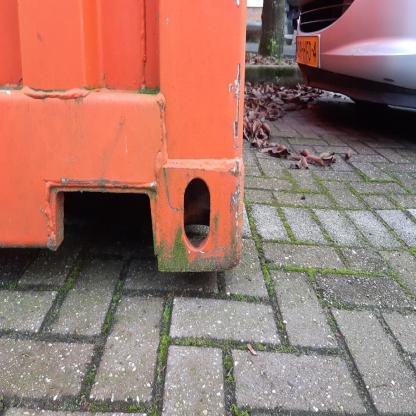CornerCasting: (153, 158, 246, 278)
